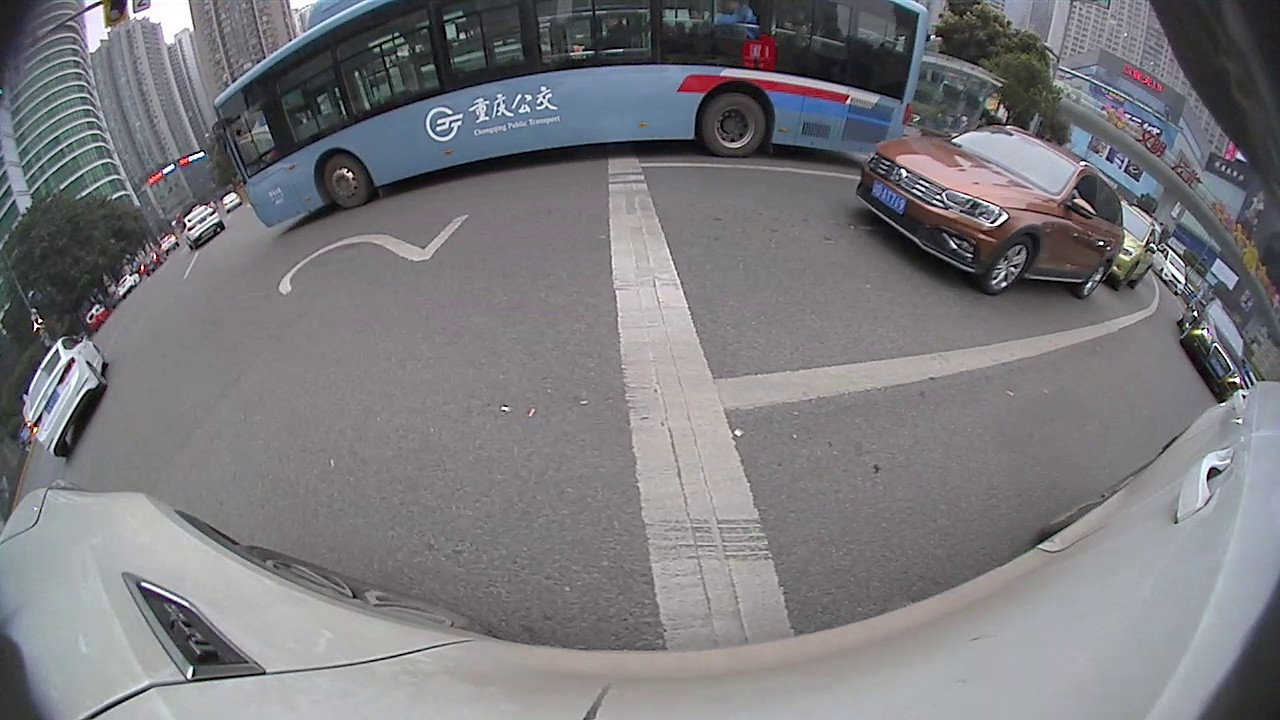bus: (212, 1, 928, 230)
car: (853, 123, 1126, 300), (22, 335, 108, 460), (1175, 292, 1247, 406), (1109, 200, 1158, 290), (181, 205, 226, 253), (1153, 243, 1188, 293)
front: (978, 232, 1038, 296), (318, 151, 373, 211)
rear: (697, 94, 770, 157), (1075, 258, 1111, 300), (81, 361, 113, 390)
